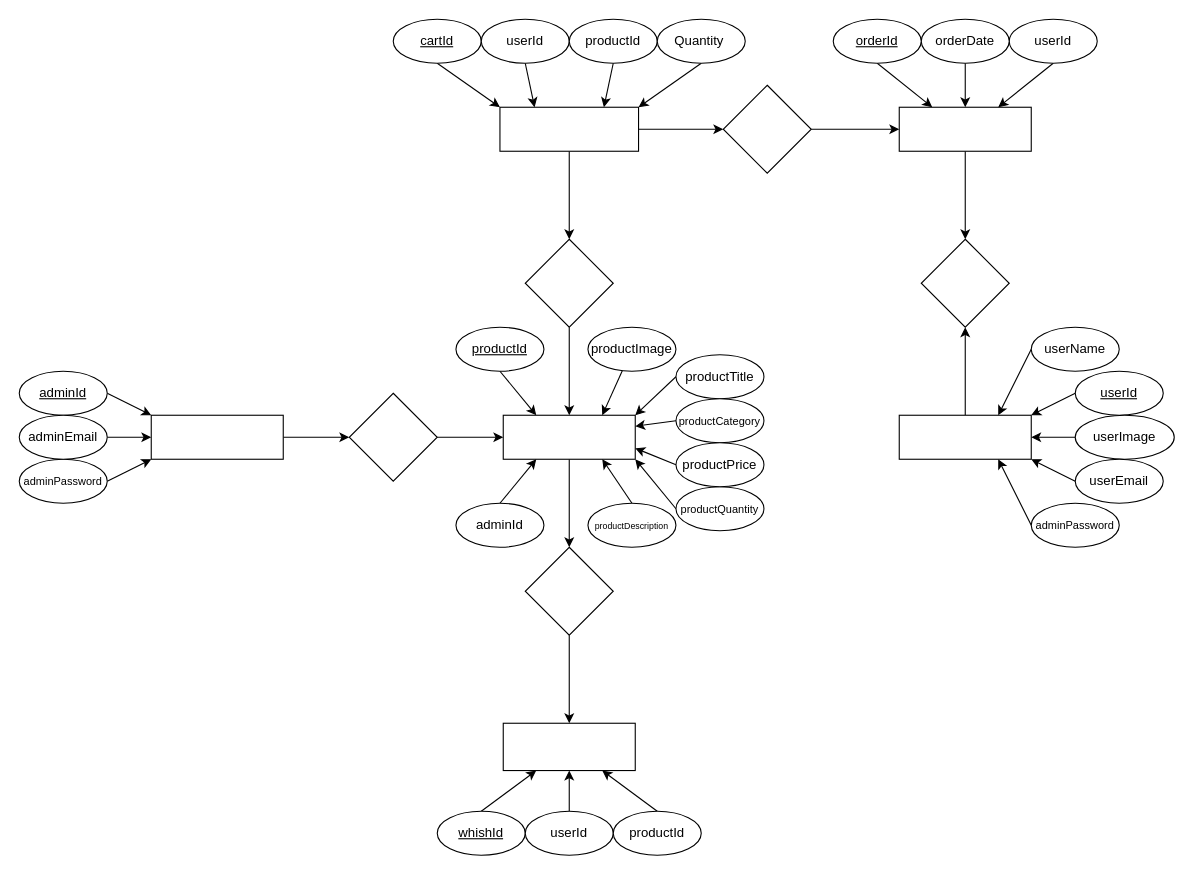
This 1194x875 diagram has some shape labels left out. Each missing label, with the centre of its shape:
"Admin" belongs at [216,436].
"Cart" belongs at [569,128].
"Order" belongs at [964,128].
"Product" belongs at [568,436].
"User" belongs at [964,436].
"Wishlist" belongs at [568,746].
